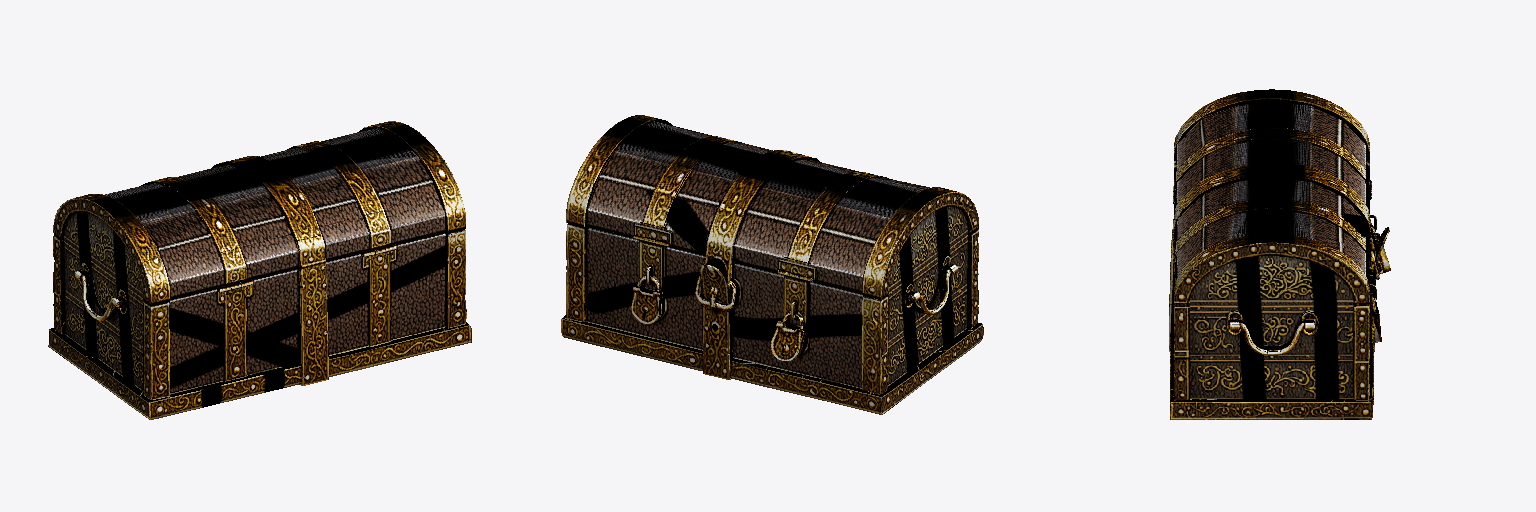
The picture shows the model from 3 angles: view 1: azimuth 30°, elevation 25°; view 2: azimuth 150°, elevation 25°; view 3: azimuth 270°, elevation 25°; orthographic projection.
Size of the model in its own units: 2 by 1.03 by 1.15.
1 materials, 1 textured.